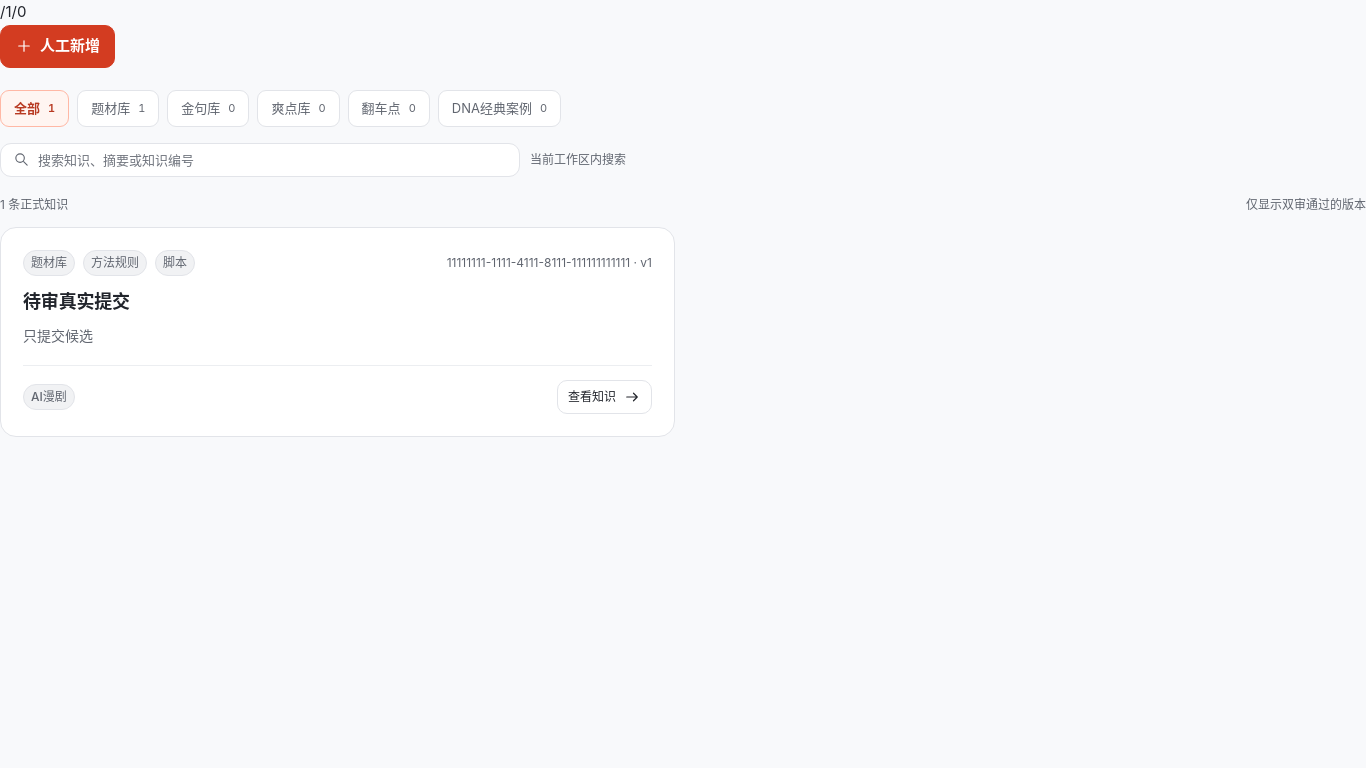
Test: 知识详情读取当前确切版本的真实来源摘录
Click the button "查看知识". click: (604, 397)
box: 557,380 -> 652,414
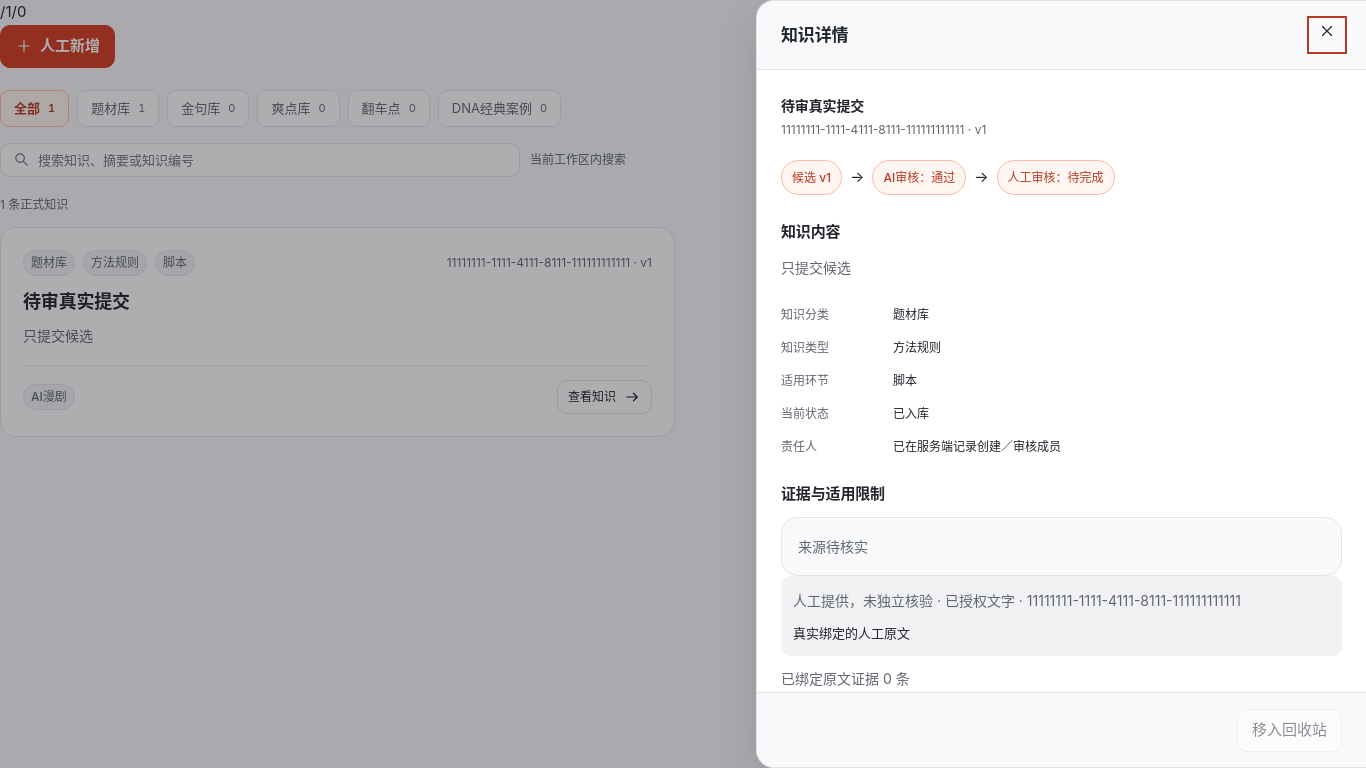
Expected: the text "真实绑定的人工原文" is shown, 793,625 -> 910,641
Expected: the text "人工提供，未独立核验 · 已授权文字 · 11111111-1111-4111-8111-111111111111" is shown, 793,592 -> 1241,609
